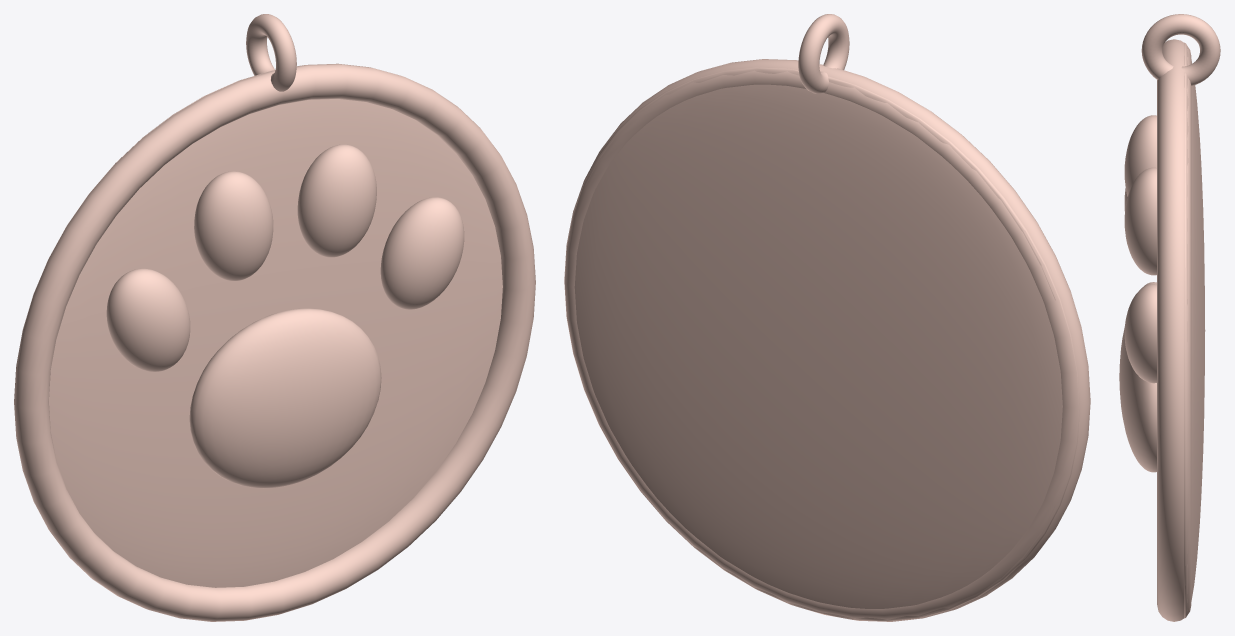
The model's file is dije-huella-oro-rosa.glb.
3 renders of one model, left to right at view 1: azimuth 30°, elevation 25°; view 2: azimuth 150°, elevation 25°; view 3: azimuth 270°, elevation 25°, orthographic. The views are drawn at different scales.
Visible parts, largest first — view 1: Dije huella (oro-rosa); view 2: Dije huella (oro-rosa); view 3: Dije huella (oro-rosa).
Part boxes in pixels (box(x1,y1,x2,y2)): Dije huella (oro-rosa): box(14, 14, 535, 621); Dije huella (oro-rosa): box(564, 14, 1090, 621); Dije huella (oro-rosa): box(1119, 14, 1220, 621).
Bounding box in the file's own units: 1.7 × 1.87 × 0.295.
